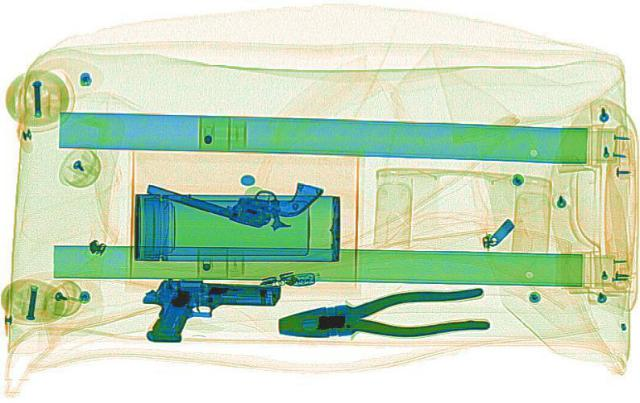Gun: (138, 143, 326, 236), (137, 277, 280, 346)
Pliers: (270, 284, 492, 347)
